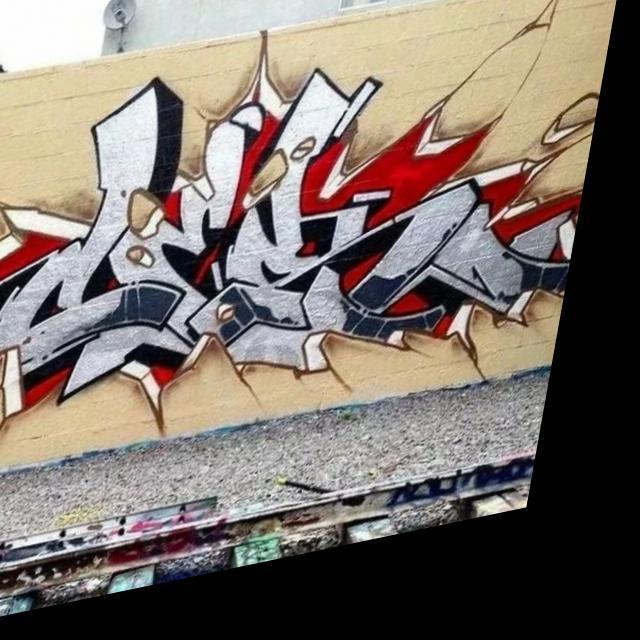nonspitting: (0, 31, 594, 436)
